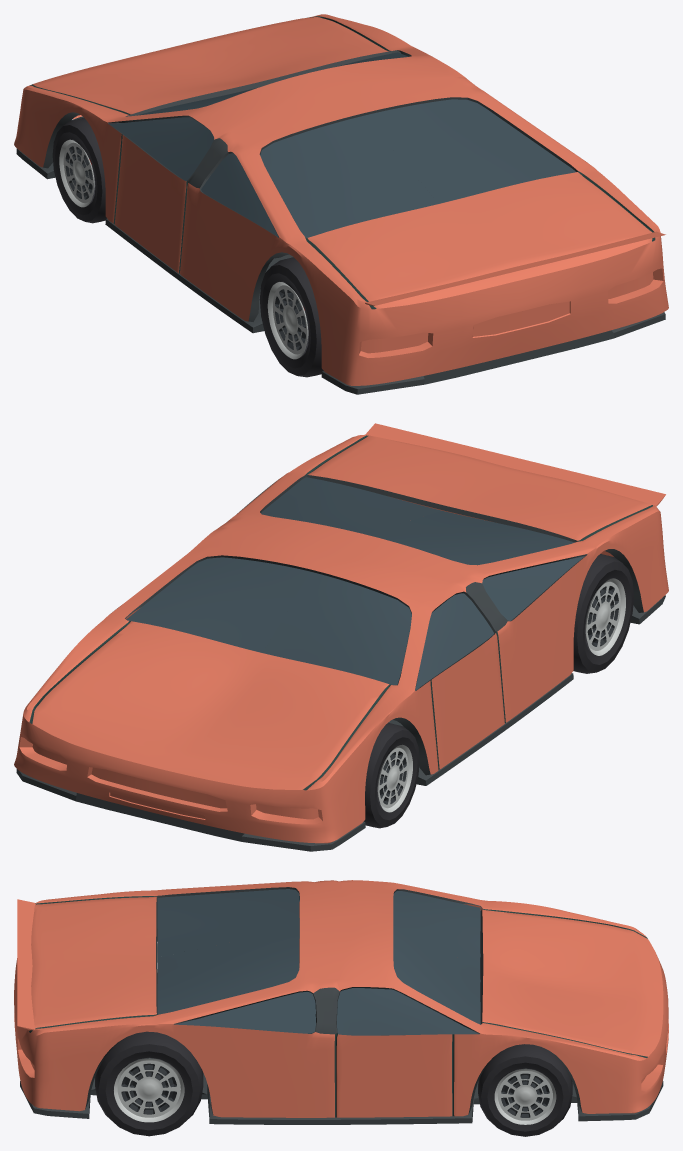
The model's file is forge_closed_supercar_lod2.fbx.
3 views of the same model, one above another, from view 1: azimuth 30°, elevation 25°; view 2: azimuth 150°, elevation 25°; view 3: azimuth 270°, elevation 25° (orthographic). The views are drawn at different scales.
Visible parts, largest first — view 1: Body, Wheel_RL_Mesh, Wheel_FL_Mesh; view 2: Body, Wheel_RL_Mesh, Wheel_FL_Mesh; view 3: Body, Wheel_RR_Mesh, Wheel_FR_Mesh.
Boxes of the visible parts, box(x1,y1,x2,y2) form: Body: box(14, 14, 668, 394); Wheel_RL_Mesh: box(259, 257, 323, 377); Wheel_FL_Mesh: box(52, 118, 116, 223); Body: box(14, 423, 668, 851); Wheel_RL_Mesh: box(572, 554, 633, 673); Wheel_FL_Mesh: box(364, 722, 419, 828); Body: box(14, 880, 668, 1124); Wheel_RR_Mesh: box(95, 1031, 203, 1136); Wheel_FR_Mesh: box(478, 1044, 572, 1136).
Size of the model in its own units: 192 by 92.23 by 373.
